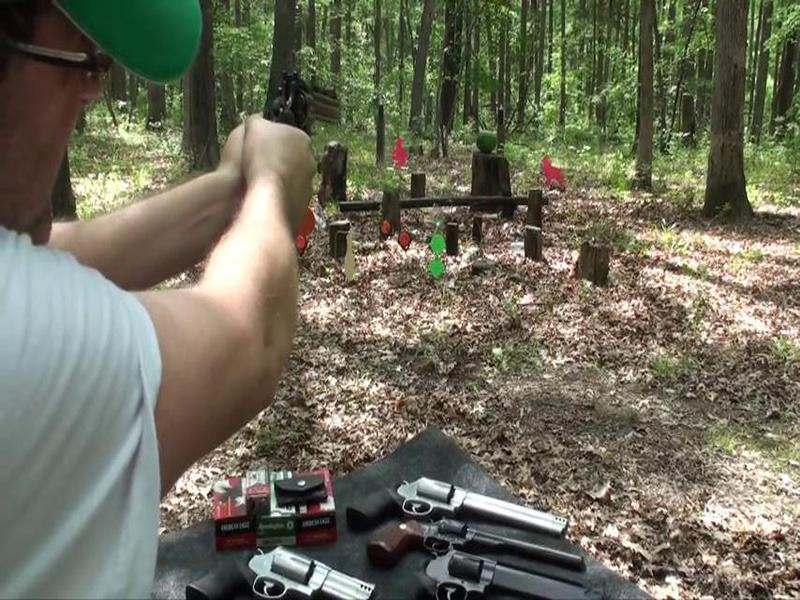Revolver: (245, 41, 380, 171)
